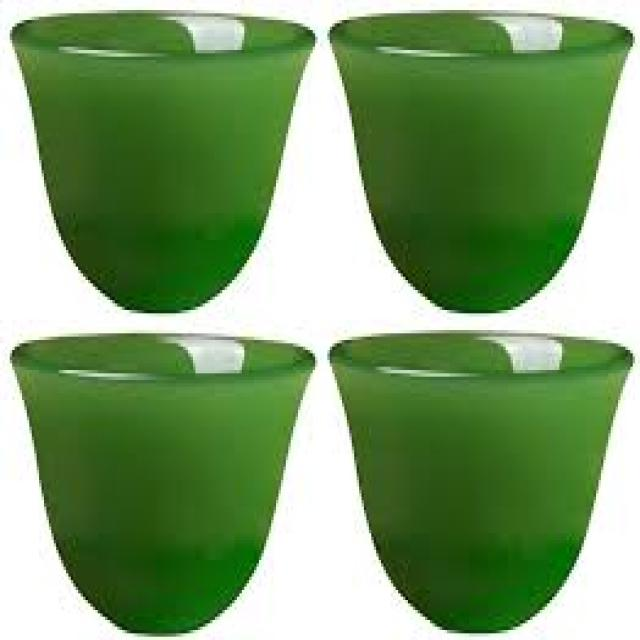glass: (7, 330, 313, 637), (325, 7, 633, 310), (327, 327, 633, 627), (7, 10, 313, 310)
